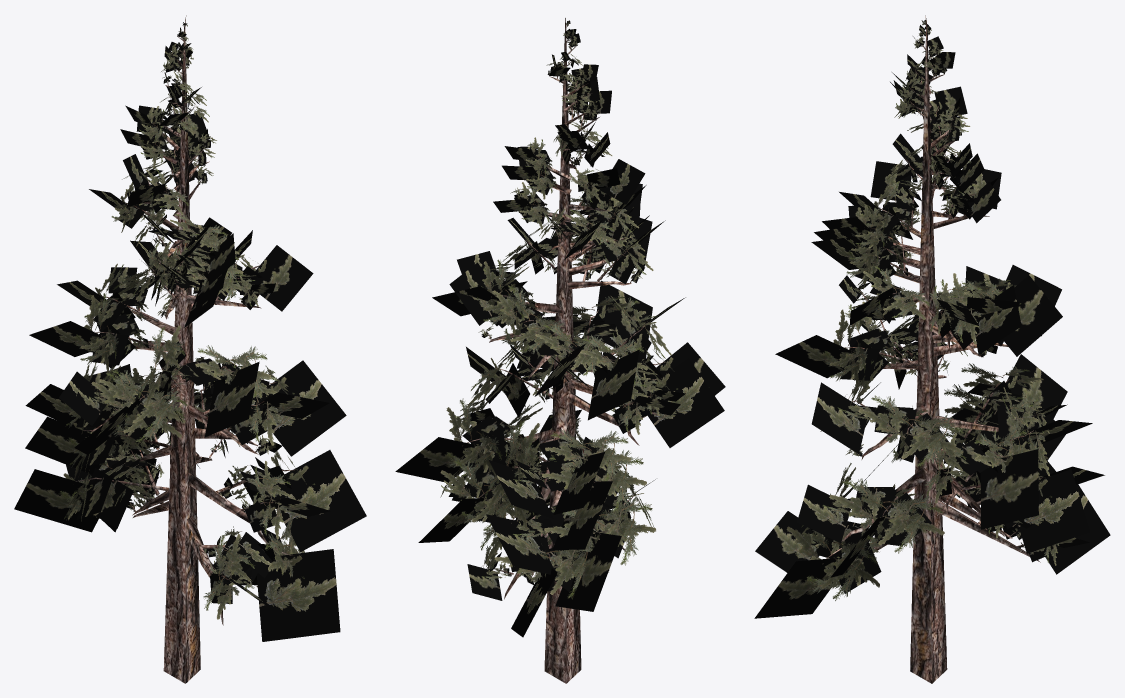
Rendered from TreeP.fbx.
The picture shows the model from 3 angles, left to right: view 1: azimuth 30°, elevation 25°; view 2: azimuth 150°, elevation 25°; view 3: azimuth 270°, elevation 25°; orthographic projection.
Visible parts, largest first — view 1: TreeP; view 2: TreeP; view 3: TreeP.
Boxes of the visible parts, x1,y1,x2,y2 form: TreeP: (14, 15, 366, 683); TreeP: (395, 18, 725, 683); TreeP: (754, 15, 1110, 683).
Bounding box in the file's own units: 419 × 985 × 481.
